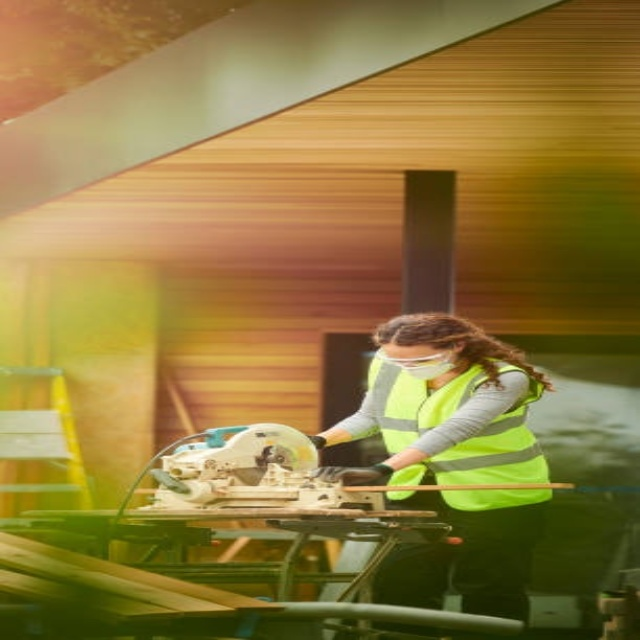Gafas: (378, 347, 454, 365)
Guantes: (314, 460, 395, 487)
Mascara: (383, 350, 459, 381)
